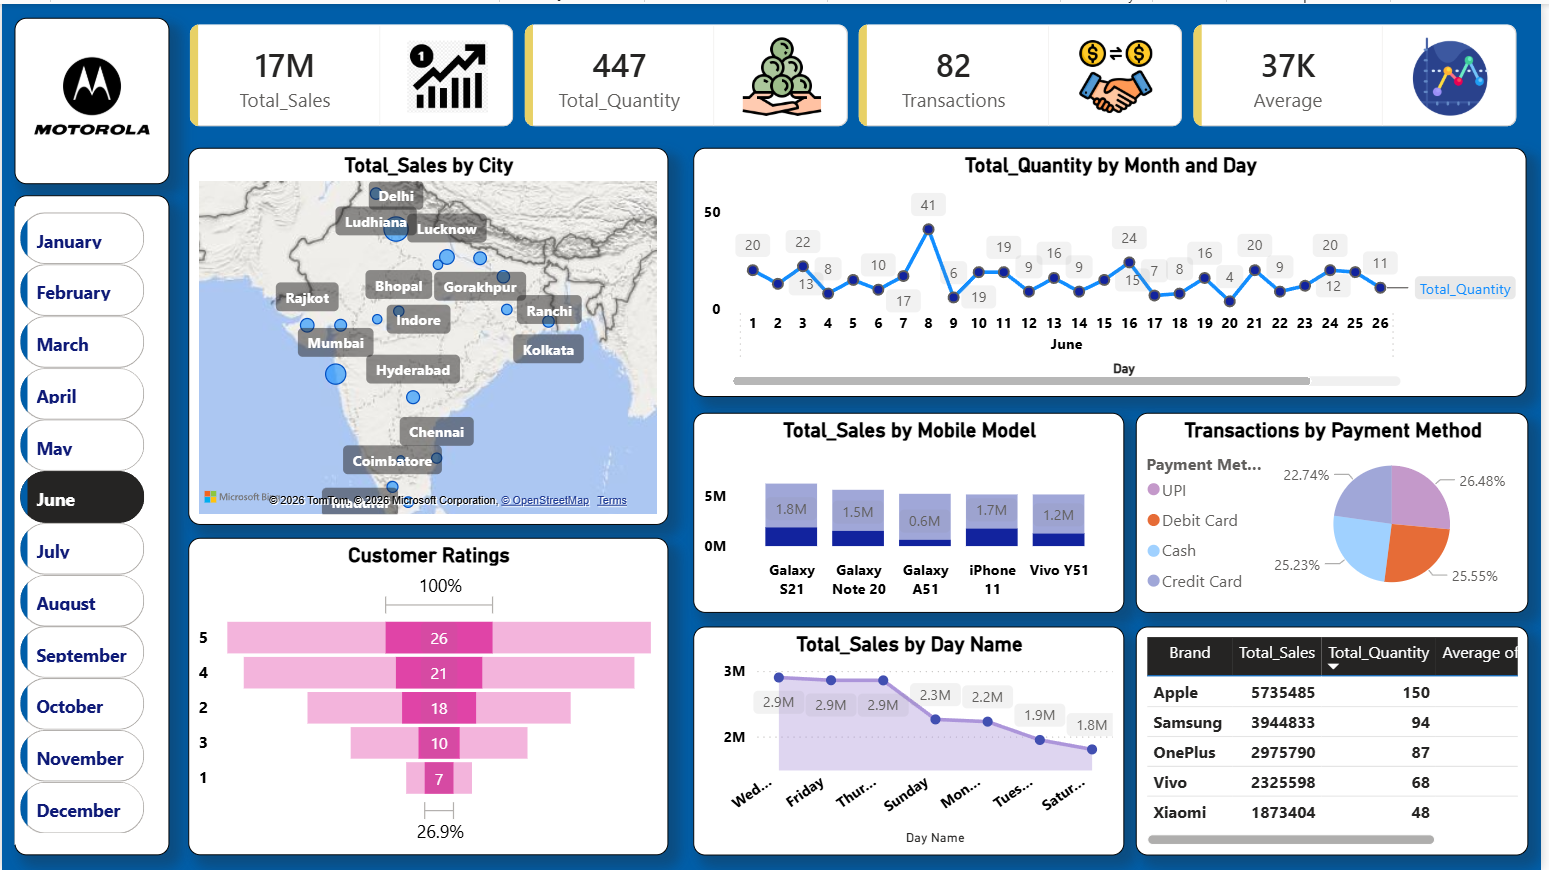

The dashboard page shown, as its layout file describes it:
{"tool":"powerbi","page":{"name":"Page 1","canvas":[1280,720],"ordinal":0},"visuals":[{"type":"shape","box":[10.5,11.6,129.1,138.4],"z":0},{"type":"image","box":[10.5,11.6,129.1,138.4],"z":1000},{"type":"shape","box":[10.5,159.3,129.1,548.8],"z":2000},{"type":"advancedSlicerVisual","fields":{"Values":["Mobile_Sales_Data.Date .Variation.Date Hierarchy.Month"]},"box":[10.5,168.6,114,530.2],"z":3000},{"type":"cardVisual","fields":{"Data":["Mobile_Sales_Data.Total_Sales","Mobile_Sales_Data.Total_Quantity","Mobile_Sales_Data.Transactions","Mobile_Sales_Data.Average"]},"box":[139.5,0,1140.7,119.8],"z":7002},{"type":"map","fields":{"Category":["Mobile_Sales_Data.City"],"Size":["Mobile_Sales_Data.Total_Sales"]},"box":[154.7,119.8,398.8,314],"z":7003},{"type":"lineChart","fields":{"Y":["Mobile_Sales_Data.Total_Quantity"],"Category":["Mobile_Sales_Data.Date .Variation.Date Hierarchy.Month","Mobile_Sales_Data.Date .Variation.Date Hierarchy.Day"]},"box":[575,119.4,693,207.2],"z":7004},{"type":"clusteredColumnChart","fields":{"Category":["Mobile_Sales_Data.Mobile Model"],"Y":["Mobile_Sales_Data.Total_Sales"]},"box":[575,340.3,358.1,166],"z":7005},{"type":"pieChart","fields":{"Category":["Mobile_Sales_Data.Payment Method"],"Y":["Mobile_Sales_Data.Transactions"]},"box":[942.7,340.3,326.6,166],"z":7006},{"type":"funnel","title":"Customer Ratings","fields":{"Category":["Mobile_Sales_Data.Customer Ratings"],"Y":["CountNonNull(Mobile_Sales_Data.Customer Ratings)"]},"box":[154.7,444.2,398.8,264],"z":7007},{"type":"areaChart","fields":{"Y":["Mobile_Sales_Data.Total_Sales"],"Category":["Mobile_Sales_Data.Day Name"]},"box":[574.4,517.4,358.1,190.7],"z":7008},{"type":"tableEx","fields":{"Values":["Mobile_Sales_Data.Brand","Mobile_Sales_Data.Total_Sales","Mobile_Sales_Data.Total_Quantity","Avg(Mobile_Sales_Data.Price Per Unit)"]},"box":[943,517.4,326.7,190.7],"z":7009},{"type":"actionButton","box":[0,0,100,40],"z":7010}]}

Visuals, with their boxes in screenshot pixels (x1, y1, x2, y2), scaled from the page's 1280x720 canvas onto the 1549x870 screenshot:
shape: 13:14:169:181
image: 13:14:169:181
shape: 13:192:169:856
advancedSlicerVisual - Mobile_Sales_Data.Date .Variation.Date Hierarchy.Month: 13:204:151:844
cardVisual - Mobile_Sales_Data.Total_Sales x Mobile_Sales_Data.Total_Quantity: 169:0:1548:145
map - Mobile_Sales_Data.City x Mobile_Sales_Data.Total_Sales: 187:145:670:524
lineChart - Mobile_Sales_Data.Total_Quantity x Mobile_Sales_Data.Date .Variation.Date Hierarchy.Month: 696:144:1534:395
clusteredColumnChart - Mobile_Sales_Data.Mobile Model x Mobile_Sales_Data.Total_Sales: 696:411:1129:612
pieChart - Mobile_Sales_Data.Payment Method x Mobile_Sales_Data.Transactions: 1141:411:1536:612
"Customer Ratings" funnel: 187:537:670:856
areaChart - Mobile_Sales_Data.Total_Sales x Mobile_Sales_Data.Day Name: 695:625:1128:856
tableEx - Mobile_Sales_Data.Brand x Mobile_Sales_Data.Total_Sales: 1141:625:1537:856
actionButton: 0:0:121:48
